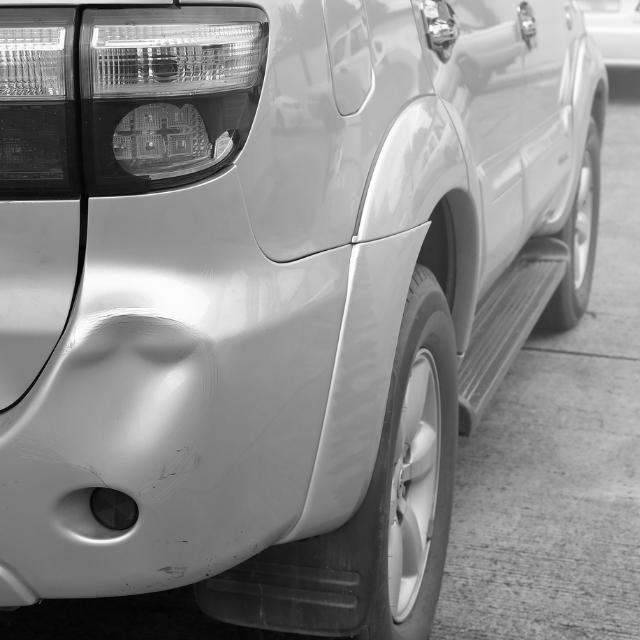Bumper: (56, 276, 240, 486)
